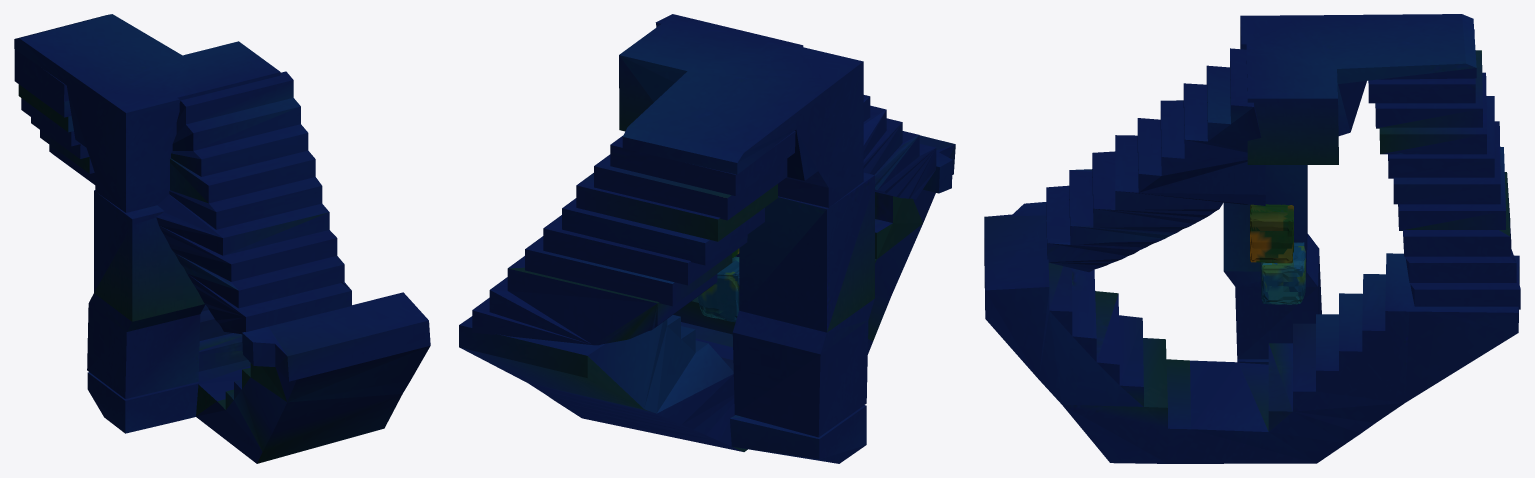
Rendered from escher-stair.glb.
3 views of the same model, side by side, from view 1: azimuth 30°, elevation 25°; view 2: azimuth 150°, elevation 25°; view 3: azimuth 270°, elevation 25° (orthographic). The views are drawn at different scales.
Parts seen in each view (by area): view 1: tripo_node_50140755-6779-4da9-bcd7-5db72e1baa17; view 2: tripo_node_50140755-6779-4da9-bcd7-5db72e1baa17; view 3: tripo_node_50140755-6779-4da9-bcd7-5db72e1baa17.
Part boxes in pixels (left/top/right/bottom): tripo_node_50140755-6779-4da9-bcd7-5db72e1baa17: left=14, top=14, right=430, bottom=463; tripo_node_50140755-6779-4da9-bcd7-5db72e1baa17: left=459, top=14, right=955, bottom=463; tripo_node_50140755-6779-4da9-bcd7-5db72e1baa17: left=984, top=14, right=1520, bottom=463.
Size of the model in its own units: 0.4863 by 0.7051 by 0.998.
1 material, 1 textured.
